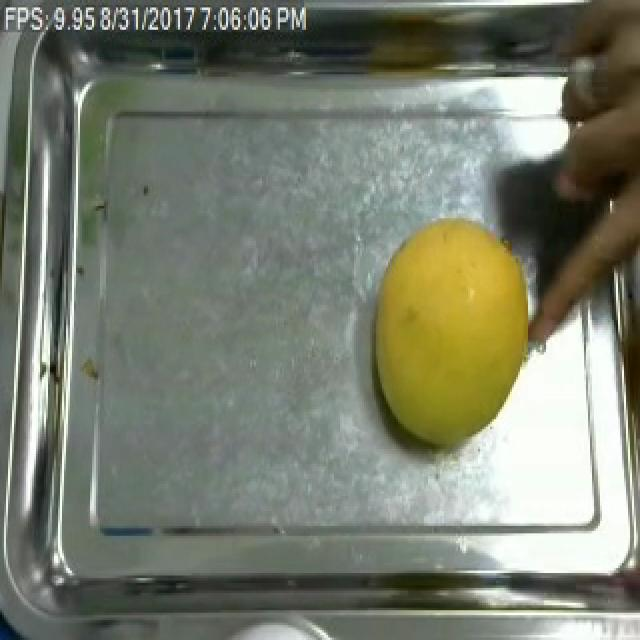fruit: (360, 208, 544, 466)
